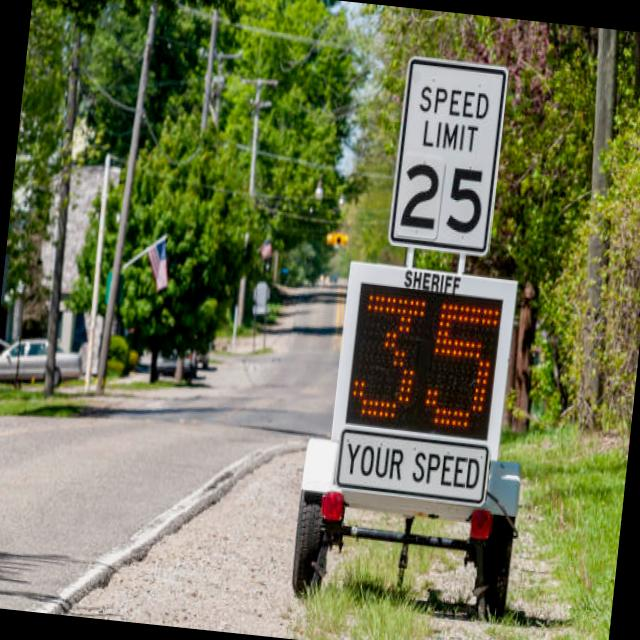Speed Limit Signs: (384, 56, 513, 266)
